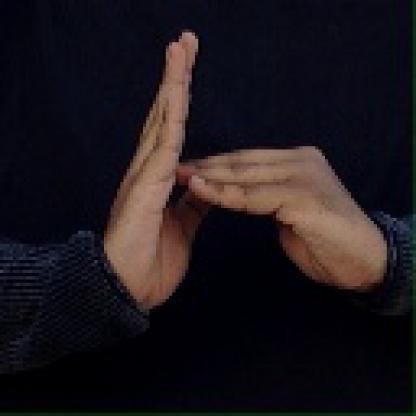Z: (101, 27, 352, 303)
